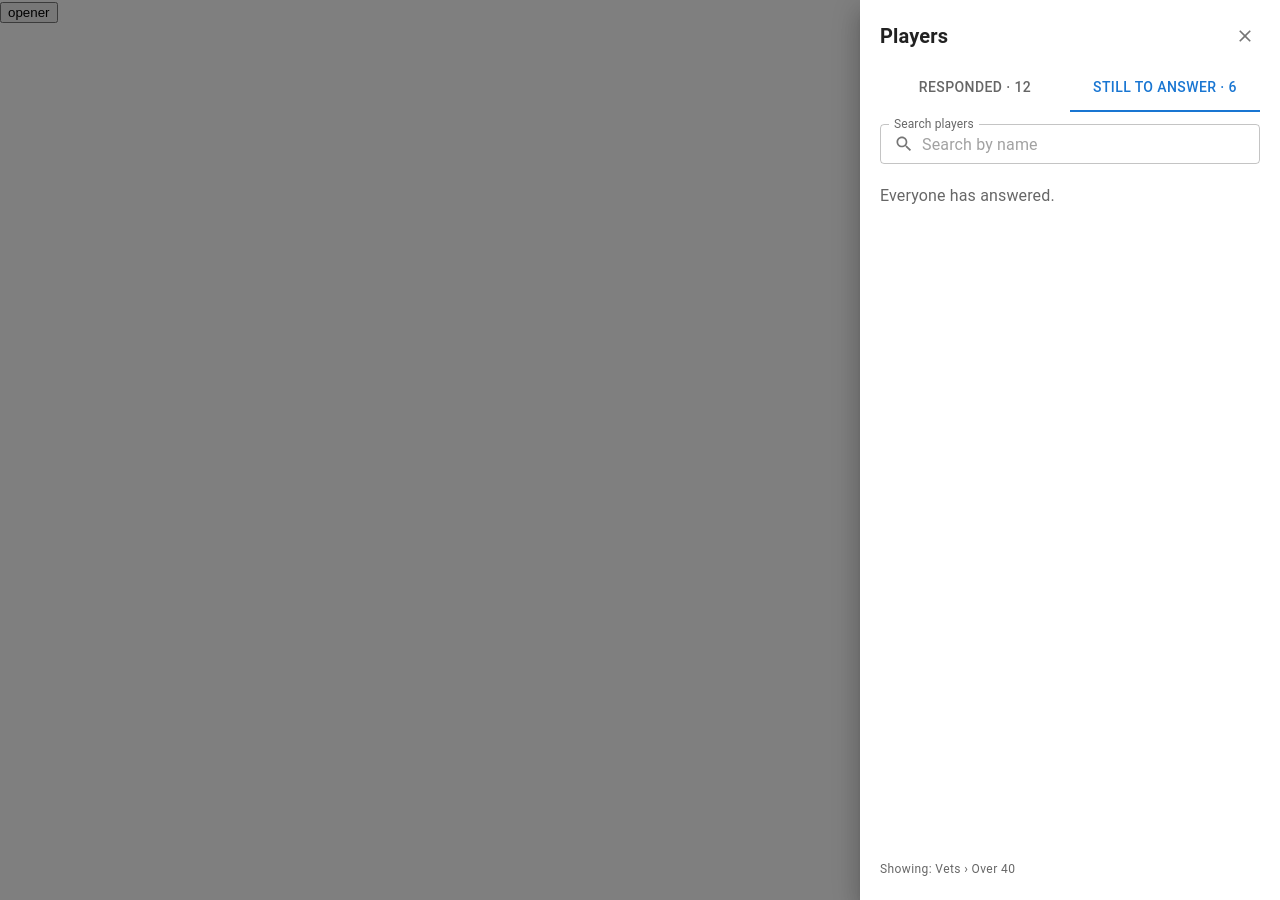
PlayersPanel (084) › says "Everyone has answered." on Still to answer and "No answers yet." on Responded when empty
The image size is (1280, 900).
Check: the text "Everyone has answered." is shown, box [880,186,1055,205]
Click the tab "Responded · 12". click: (975, 88)
box: [880,64,1070,112]
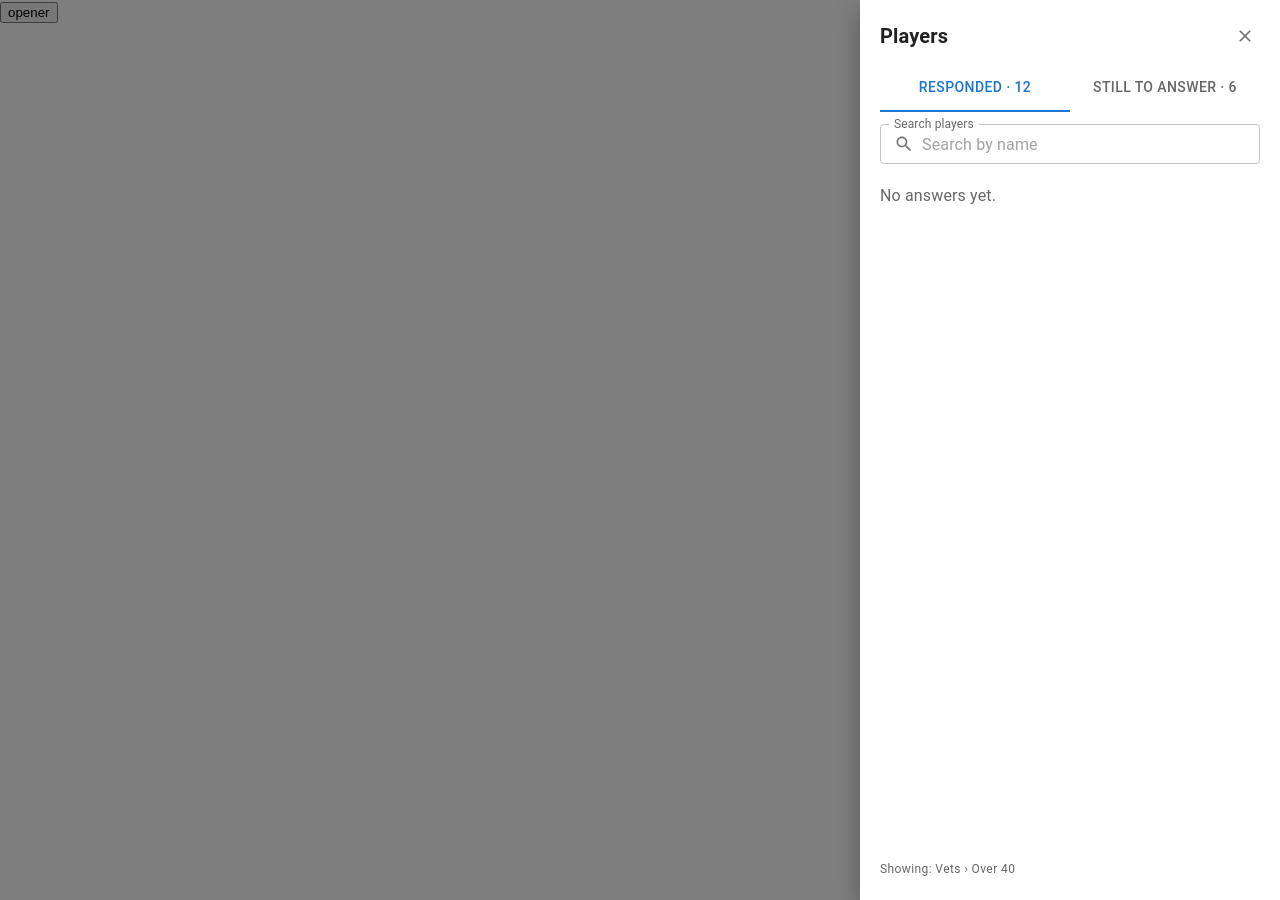
Check: the text "No answers yet." is shown, box [880,186,996,205]
